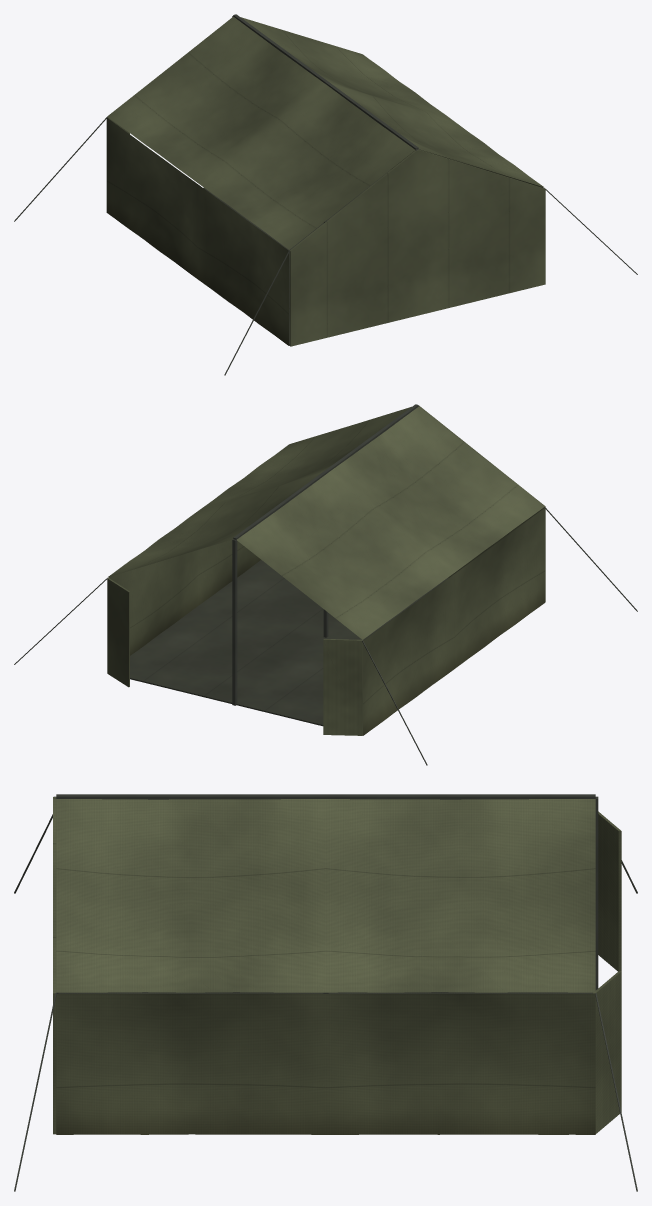
The model's file is camp_tent.glb.
3 renders of one model, top to bottom at view 1: azimuth 30°, elevation 25°; view 2: azimuth 150°, elevation 25°; view 3: azimuth 270°, elevation 25°, orthographic. The views are drawn at different scales.
Parts seen in each view (by area): view 1: camp_tent; view 2: camp_tent; view 3: camp_tent.
Part boxes in pixels (x1=…): camp_tent: x1=14, y1=14, x2=637, y2=375; camp_tent: x1=14, y1=404, x2=637, y2=765; camp_tent: x1=14, y1=794, x2=637, y2=1191.
Bounding box in the file's own units: 6.81 × 2.63 × 6.01.
Materials: 3 (3 with a texture image).
